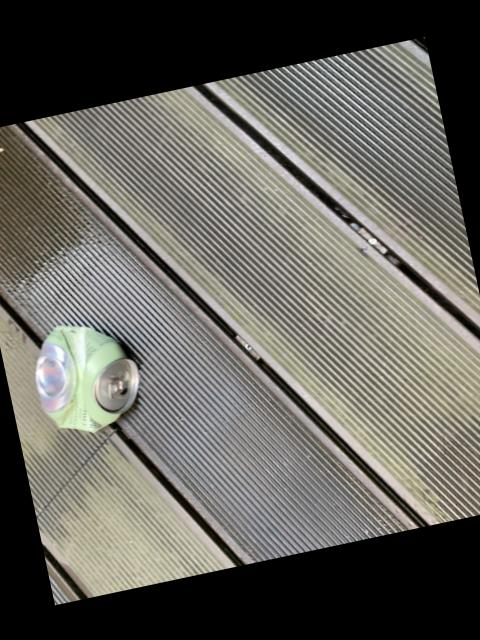metal: (34, 323, 137, 429)
